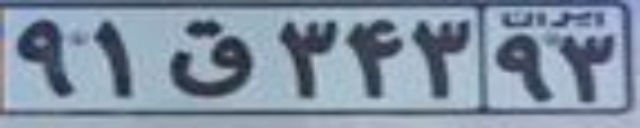1: (93, 20, 133, 97)
3: (274, 19, 339, 97), (409, 21, 468, 98), (557, 34, 617, 102)
4: (343, 19, 403, 98)
9: (14, 17, 73, 97), (492, 33, 554, 101)
ghaf: (160, 18, 256, 96)
